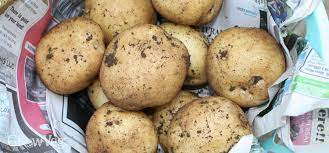potato: (102, 29, 190, 108), (210, 27, 285, 107), (171, 99, 265, 149), (33, 17, 97, 90), (86, 103, 155, 149)
